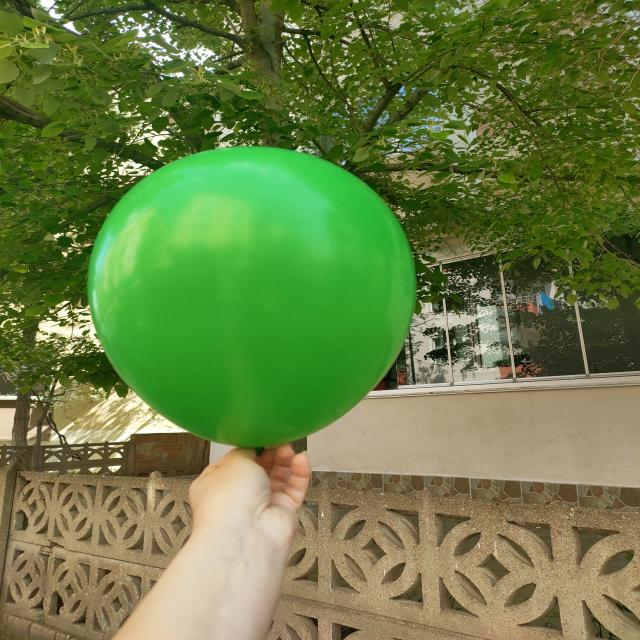green: (91, 147, 416, 450)
